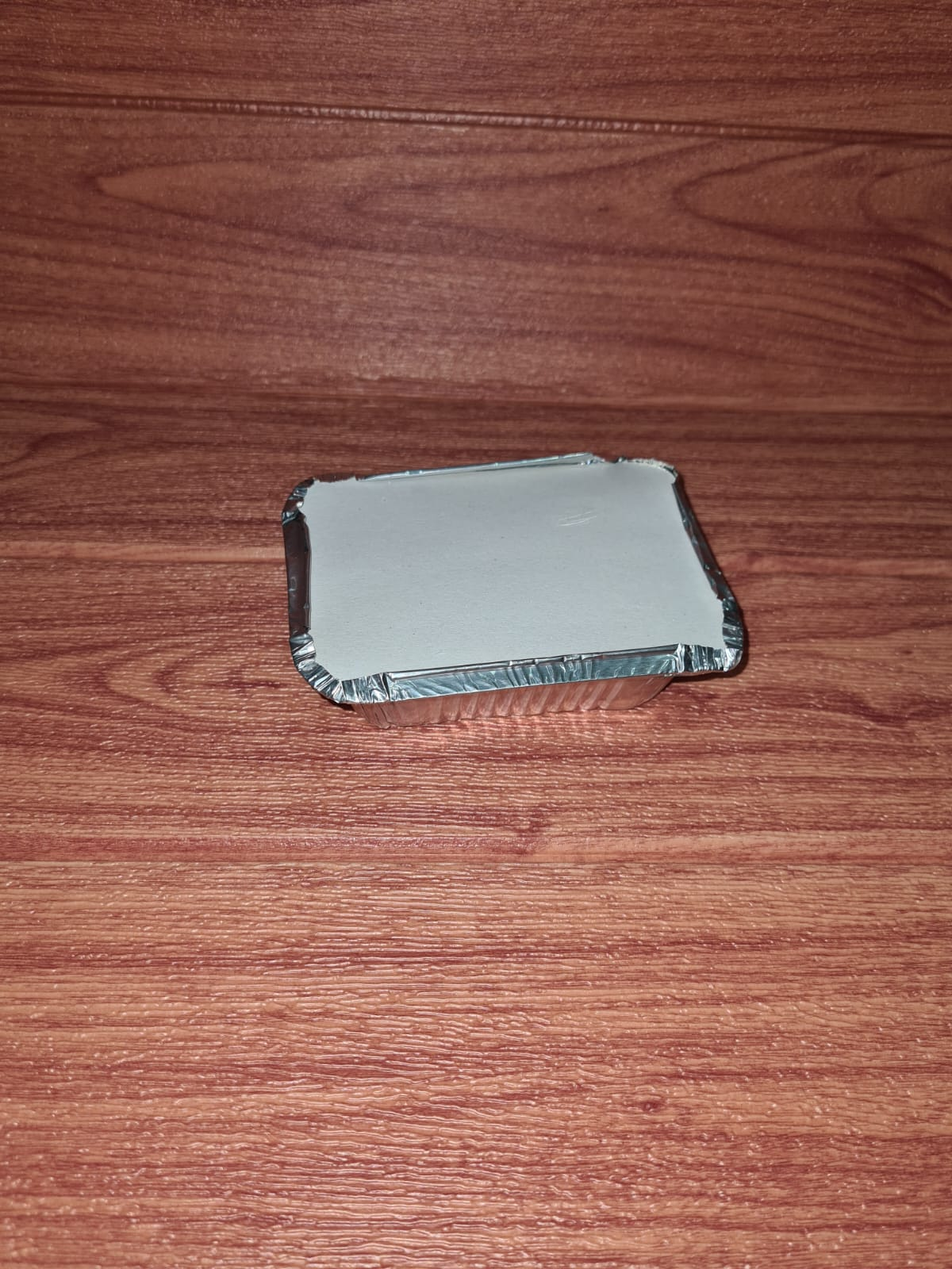Metal: (255, 418, 772, 757)
